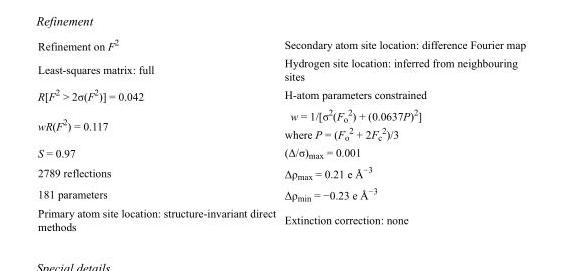table: (37, 36, 525, 232)
table column: (279, 36, 525, 232), (37, 36, 279, 232)
table row: (37, 104, 525, 143), (37, 54, 525, 84), (37, 204, 525, 232), (37, 161, 525, 183), (37, 183, 525, 204), (37, 84, 525, 104), (37, 36, 525, 54), (37, 143, 525, 161)
